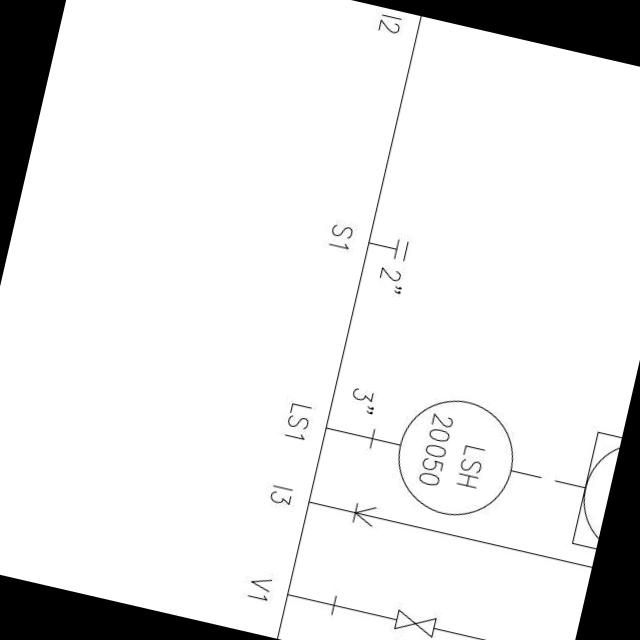GV: (388, 604, 442, 640)
